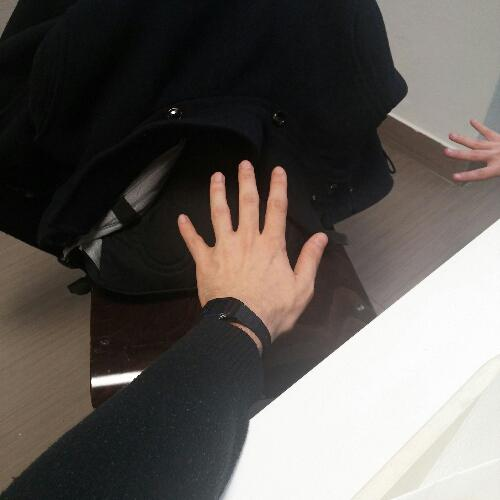paper: (174, 154, 336, 353), (438, 110, 500, 192)
